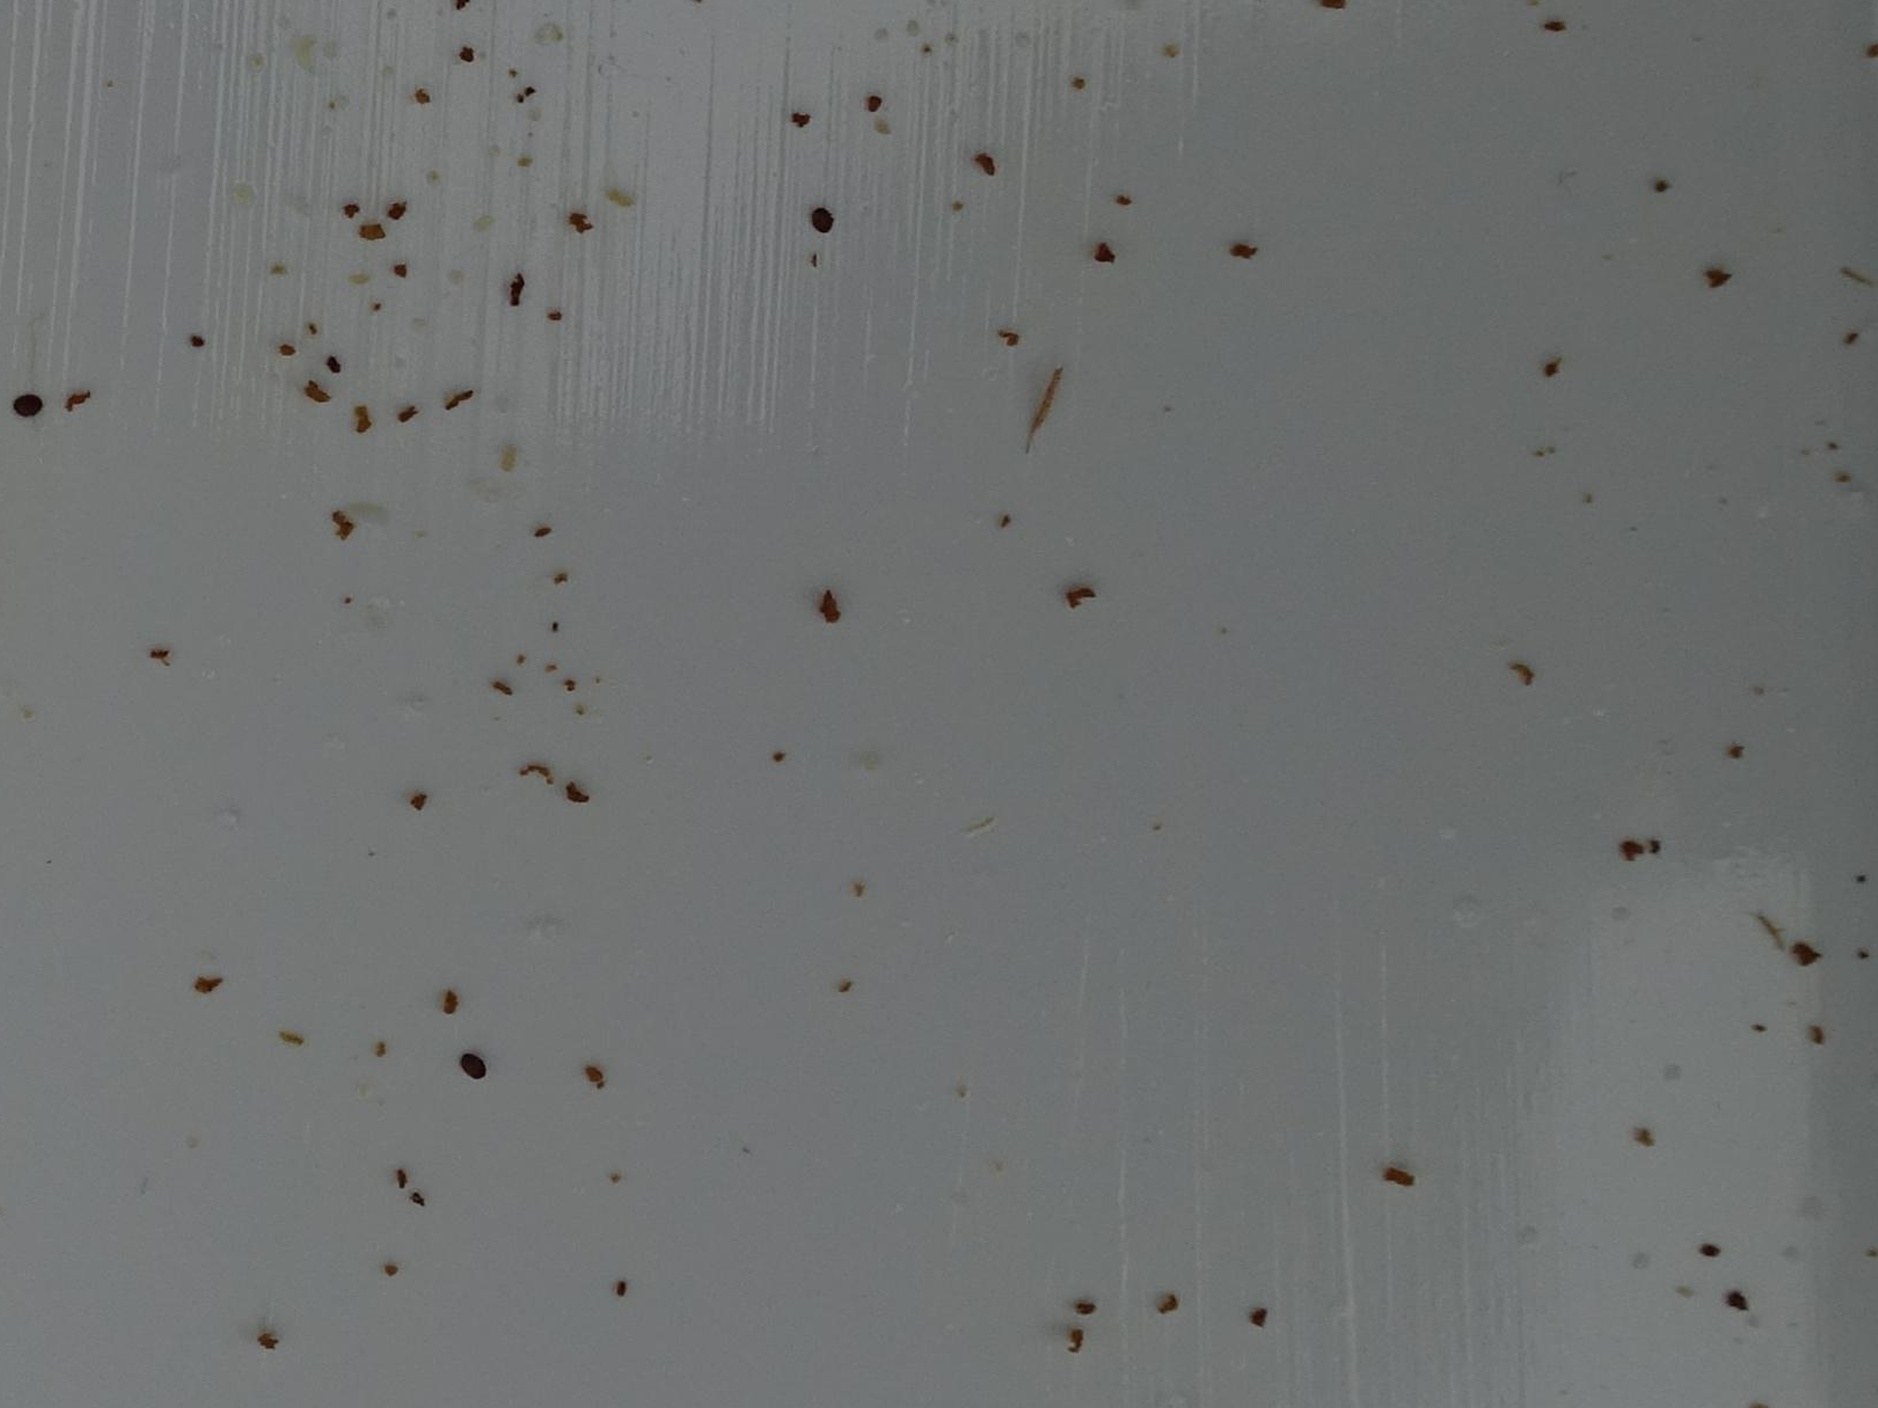Varroa: (461, 1053, 484, 1080), (16, 390, 38, 414), (816, 211, 830, 226)
